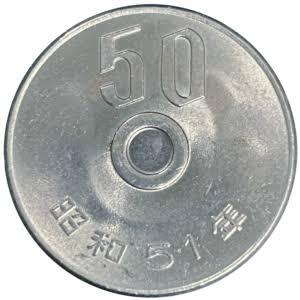year: (49, 195, 248, 288)
